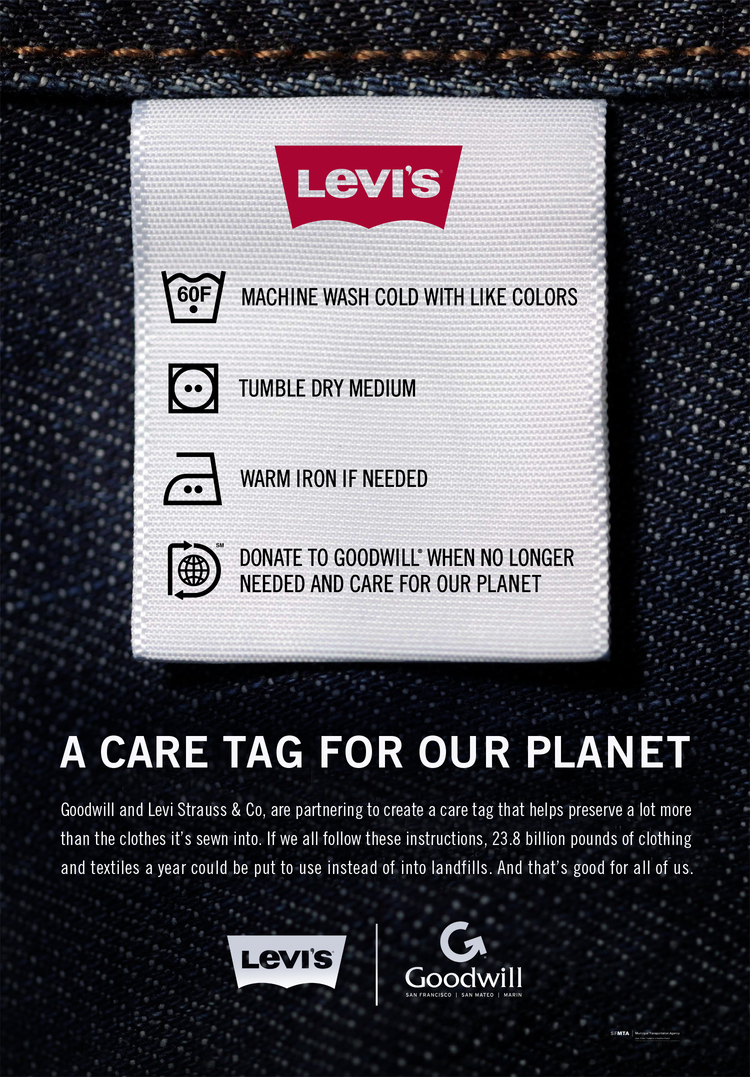ER_iron_medium_temp: (156, 442, 228, 515)
ER_tumble_dry_normal_heat: (161, 355, 228, 423)
